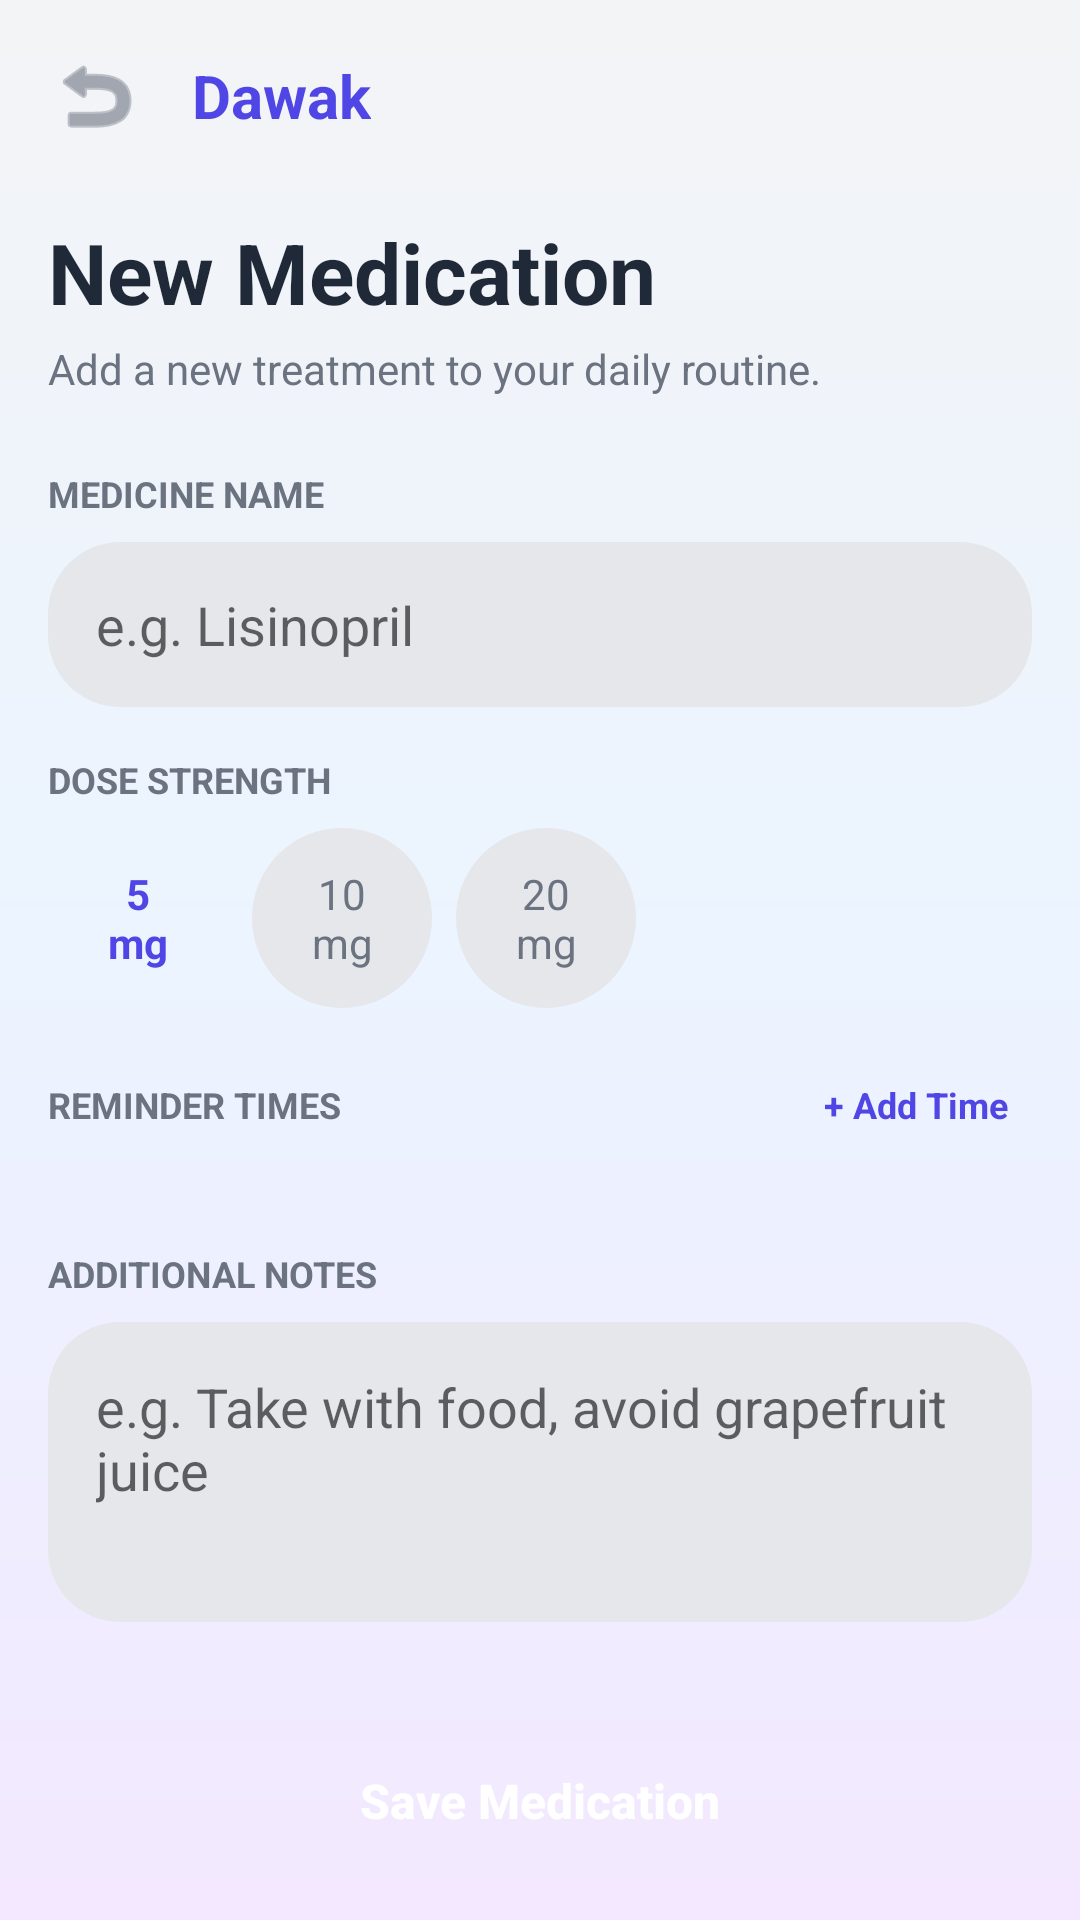

Icon click points for this 1080 × 1920 phone screenshot, format point (x, y):
revert: point (97, 97)
